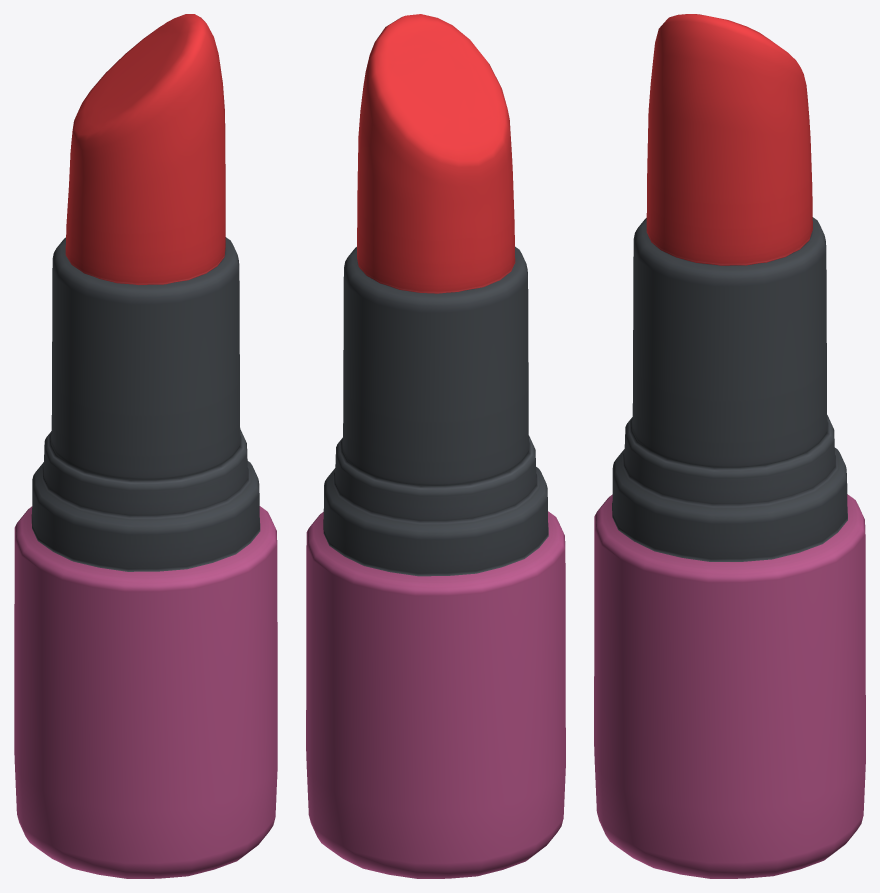
The model's file is Lipstick.fbx.
The picture shows the model from 3 angles, left to right: view 1: azimuth 30°, elevation 25°; view 2: azimuth 150°, elevation 25°; view 3: azimuth 270°, elevation 25°; orthographic projection. The views are drawn at different scales.
Visible parts, largest first — view 1: Lipstick; view 2: Lipstick; view 3: Lipstick.
Boxes of the visible parts, box(x1,y1,x2,y2) form: Lipstick: box(14, 14, 277, 878); Lipstick: box(306, 14, 565, 878); Lipstick: box(594, 14, 865, 878).
Bounding box in the file's own units: 15.02 × 51.2 × 15.02.
